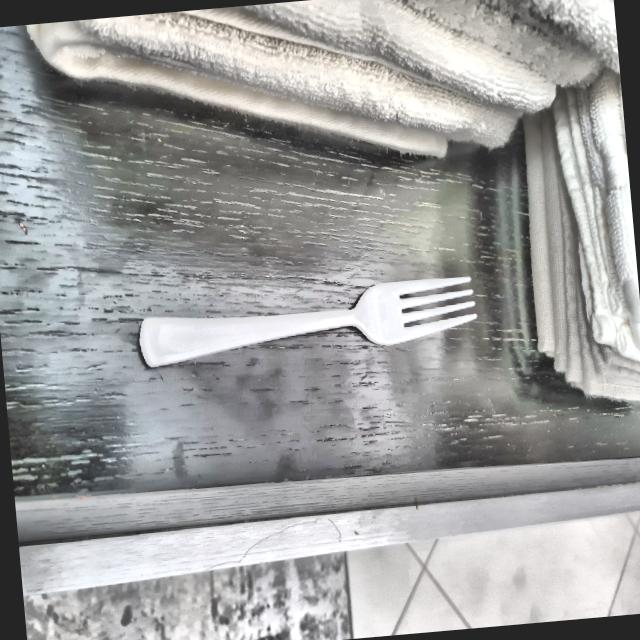plastic utensil: (139, 272, 482, 374)
